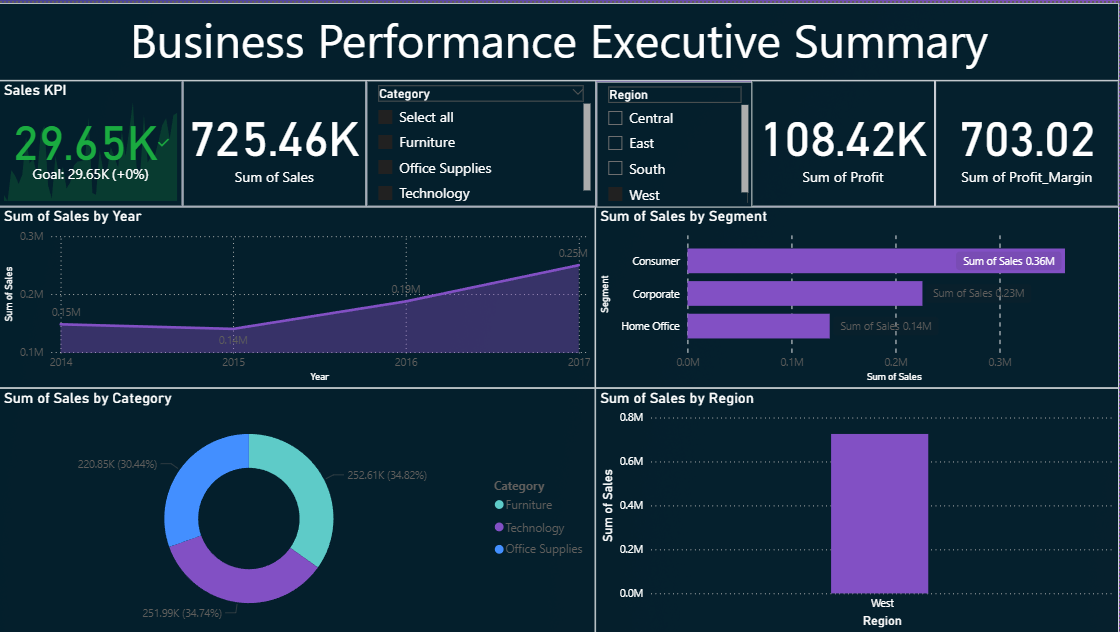

This screenshot's page, from the dashboard's own definition file:
{"tool":"powerbi","page":{"name":"Page 1","canvas":[1280,720],"ordinal":0},"visuals":[{"type":"lineChart","fields":{"Category":["Superstore_clean.MonthYear.Variation.Date Hierarchy.Year","Superstore_clean.MonthYear.Variation.Date Hierarchy.Quarter","Superstore_clean.MonthYear.Variation.Date Hierarchy.Month","Superstore_clean.MonthYear.Variation.Date Hierarchy.Day"],"Y":["Sum(Superstore_clean.Sales)"]},"box":[0,233.3,682,207.2],"z":0},{"type":"clusteredColumnChart","fields":{"Category":["Superstore_clean.Region"],"Y":["Sum(Superstore_clean.Sales)"]},"box":[682,440.5,598.3,279.9],"z":1000},{"type":"donutChart","fields":{"Category":["Superstore_clean.Category"],"Y":["Sum(Superstore_clean.Sales)"]},"box":[0,440.5,682,279.9],"z":2000},{"type":"kpi","title":"Sales KPI","fields":{"Indicator":["Sum(Superstore_clean.Sales)"],"TrendLine":["Superstore_clean.YearMonth"],"Goal":["Sum(Superstore_clean.Sales)"]},"box":[0,89.2,209.9,144.1],"z":3000},{"type":"slicer","fields":{"Values":["Superstore_clean.Region"]},"box":[682.9,89.6,179.1,144.3],"z":4000},{"type":"slicer","fields":{"Values":["Superstore_clean.Category"]},"box":[419.9,89.2,262.1,144.1],"z":5000},{"type":"card","fields":{"Values":["Sum(Superstore_clean.Sales)"]},"box":[209.9,89.2,209.9,144.1],"z":6000},{"type":"card","fields":{"Values":["Sum(Superstore_clean.Profit)"]},"box":[860.4,89.2,209.9,144.1],"z":7000},{"type":"card","fields":{"Values":["Sum(Superstore_clean.Profit_Margin)"]},"box":[1070.3,89.2,209.9,144.1],"z":8000},{"type":"clusteredBarChart","fields":{"Category":["Superstore_clean.Segment"],"Y":["Sum(Superstore_clean.Sales)"]},"box":[682,233.3,598.3,207.2],"z":9000},{"type":"textbox","box":[0,0,1280.3,89.2],"z":10000}]}

Visuals, with their boxes in screenshot pixels (x1, y1, x2, y2), scaled from the page's 1280x720 canvas onto the 1120x632 screenshot:
lineChart - Superstore_clean.MonthYear.Variation.Date Hierarchy.Year x Superstore_clean.MonthYear.Variation.Date Hierarchy.Quarter: <box>0,205,597,387</box>
clusteredColumnChart - Superstore_clean.Region x Sum(Superstore_clean.Sales): <box>597,387,1119,631</box>
donutChart - Superstore_clean.Category x Sum(Superstore_clean.Sales): <box>0,387,597,631</box>
"Sales KPI" kpi: <box>0,78,184,205</box>
slicer - Superstore_clean.Region: <box>598,79,754,205</box>
slicer - Superstore_clean.Category: <box>367,78,597,205</box>
card - Sum(Superstore_clean.Sales): <box>184,78,367,205</box>
card - Sum(Superstore_clean.Profit): <box>753,78,937,205</box>
card - Sum(Superstore_clean.Profit_Margin): <box>937,78,1119,205</box>
clusteredBarChart - Superstore_clean.Segment x Sum(Superstore_clean.Sales): <box>597,205,1119,387</box>
textbox: <box>0,0,1119,78</box>
